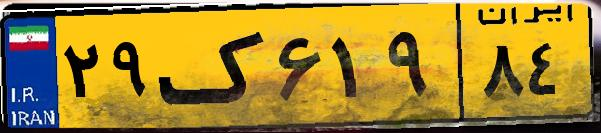1: (330, 28, 385, 110)
2: (57, 26, 110, 100)
4: (525, 38, 570, 115)
6: (270, 28, 330, 110)
8: (475, 38, 525, 113)
9: (385, 28, 445, 110), (110, 28, 158, 98)
ک: (158, 12, 270, 120)
